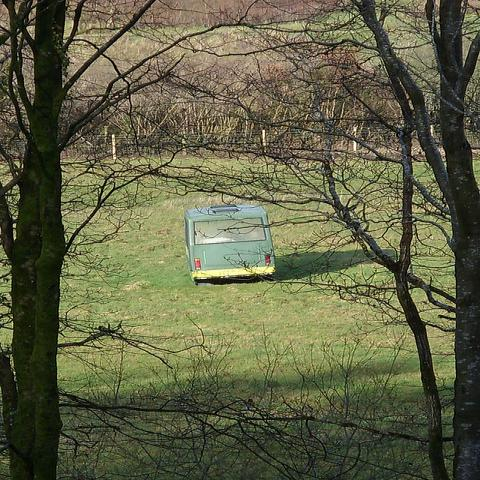bus: (184, 204, 276, 283)
truck: (188, 203, 281, 285)
